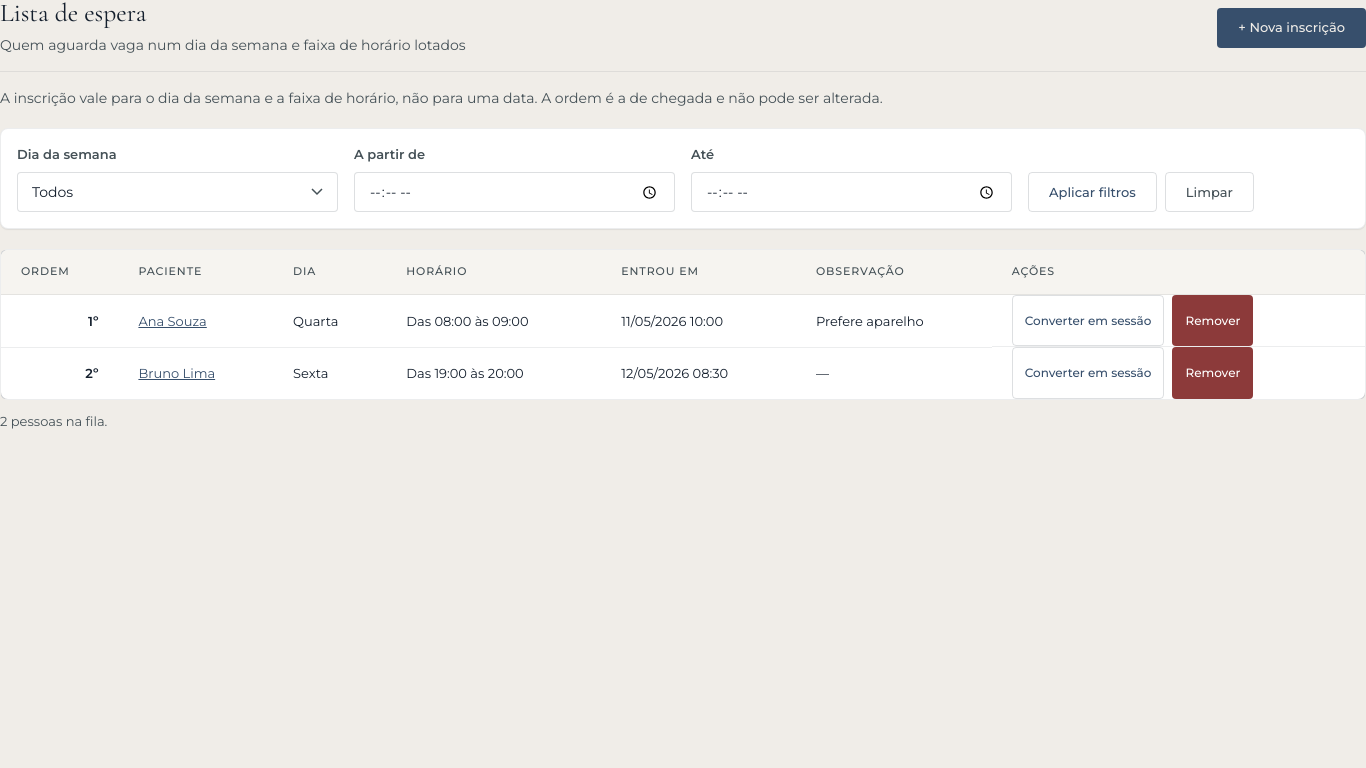
Test case: ListaEsperaListComponent › remoção › should show the API message when removing fails
The width and height of the screenshot is (1366, 768).
What coordinates should you click on to do the following:
click the button with class "btn-danger" in the row of "1º"
I would click on:
 (1213, 321)
Its box is 1172,295 -> 1253,346.
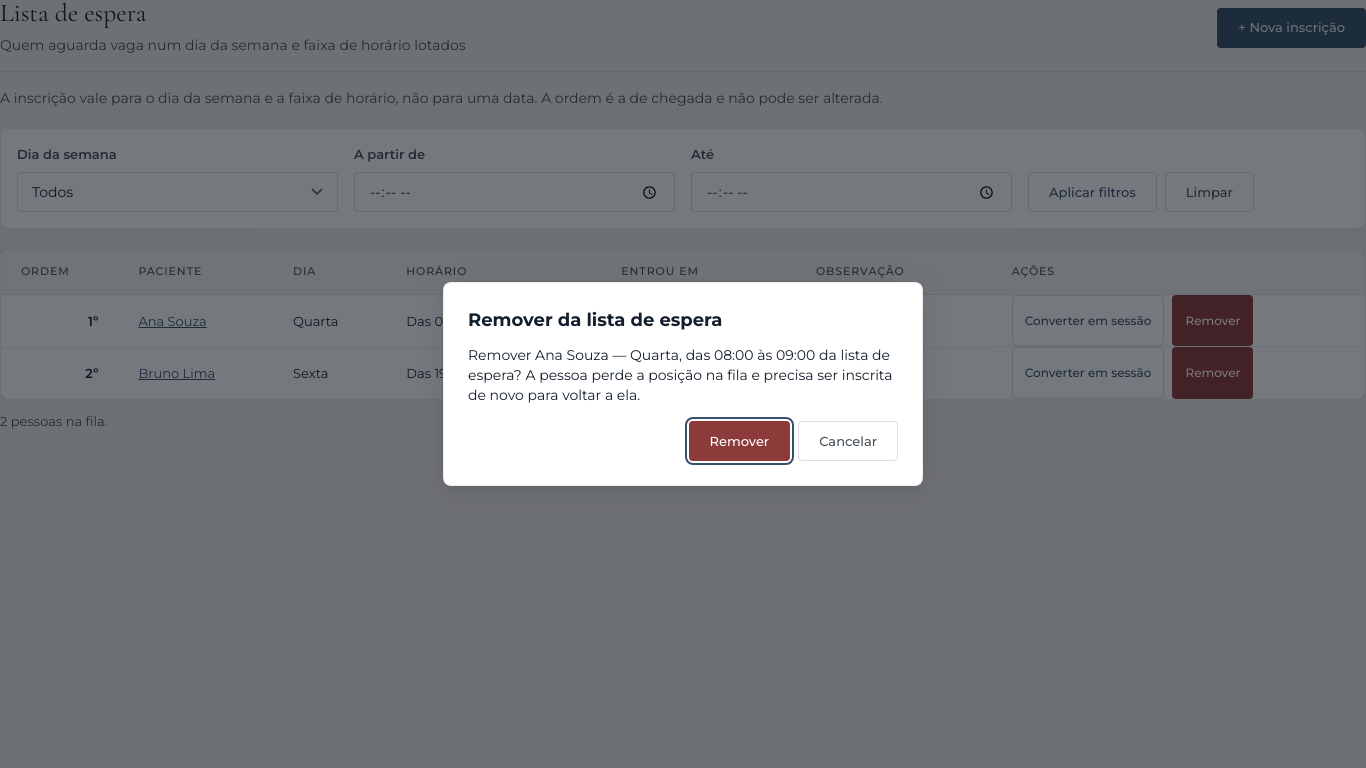
What coordinates should you click on to do the following:
click the button with class "btn-danger" showing "Remover"
I would click on:
 (739, 442)
Its box is 689,422 -> 790,462.
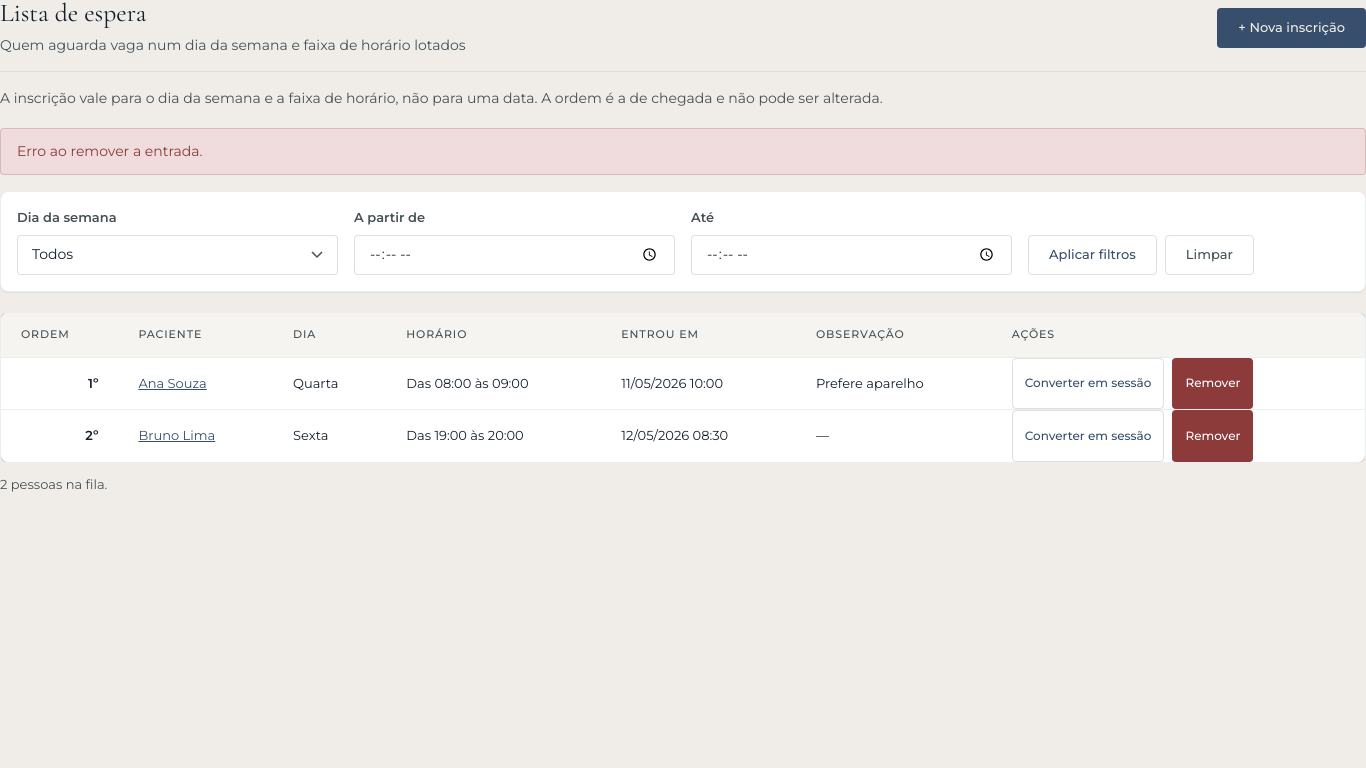
Now the message with class "alert-danger" reads "Erro ao remover a entrada.", box 17,142 -> 202,160
